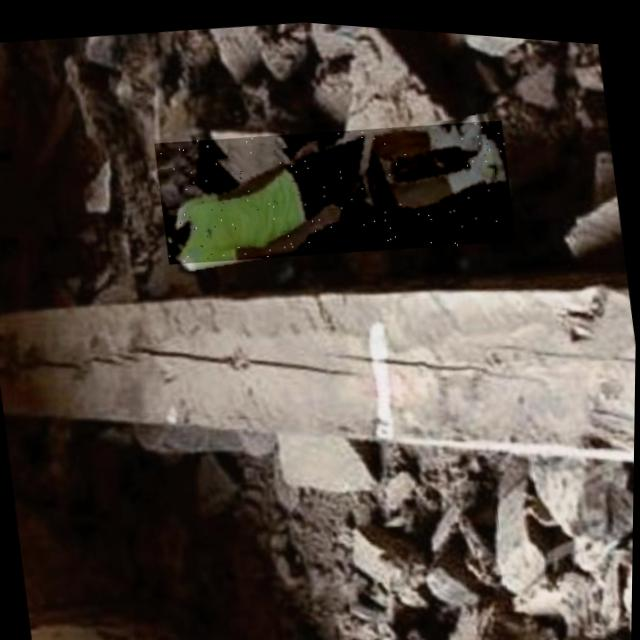Person in Rubble: (154, 91, 519, 281)
